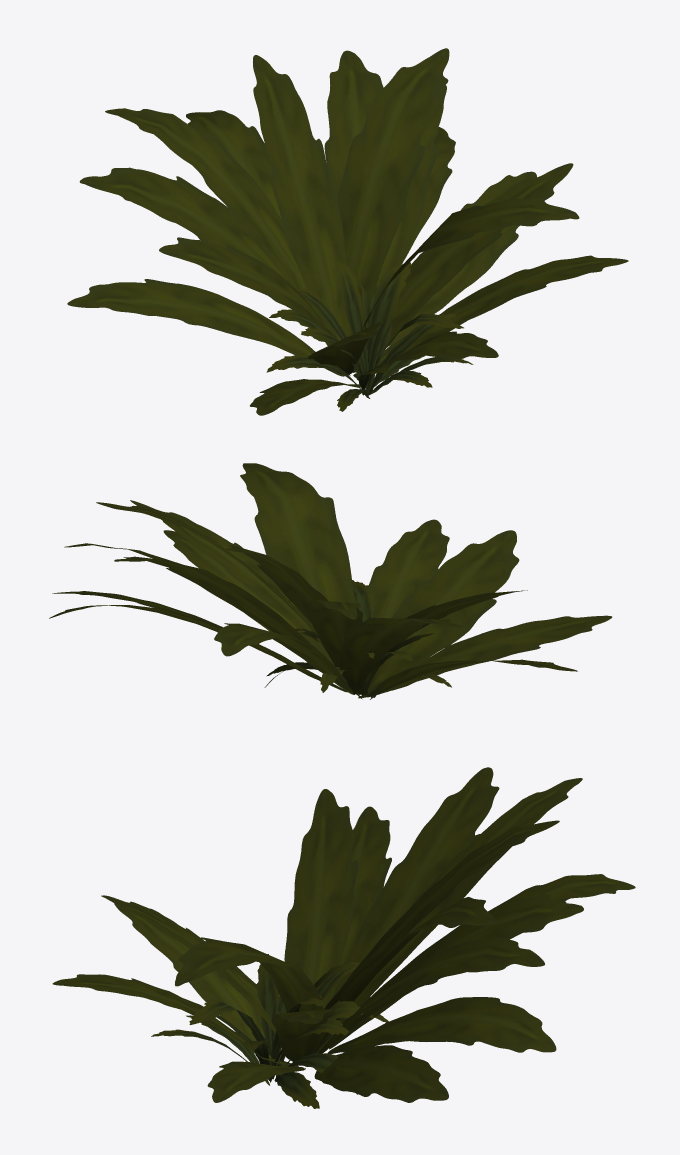
Rendered from plants.glb.
The picture shows the model from 3 angles, top to bottom: view 1: azimuth 30°, elevation 25°; view 2: azimuth 150°, elevation 25°; view 3: azimuth 270°, elevation 25°; orthographic projection. The views are drawn at different scales.
Parts seen in each view (by area): view 1: SM_plants_07, SM_plants_05; view 2: SM_plants_07, SM_plants_05; view 3: SM_plants_07, SM_plants_05.
Part boxes in pixels (x1,y1,x2,y2): SM_plants_07: (67, 48, 628, 415); SM_plants_05: (266, 259, 473, 411); SM_plants_07: (49, 463, 612, 699); SM_plants_05: (264, 580, 451, 699); SM_plants_07: (52, 767, 635, 1102); SM_plants_05: (151, 954, 388, 1108).
Size of the model in its own units: 1.95 by 0.8411 by 1.71.
1 material, 1 textured.
